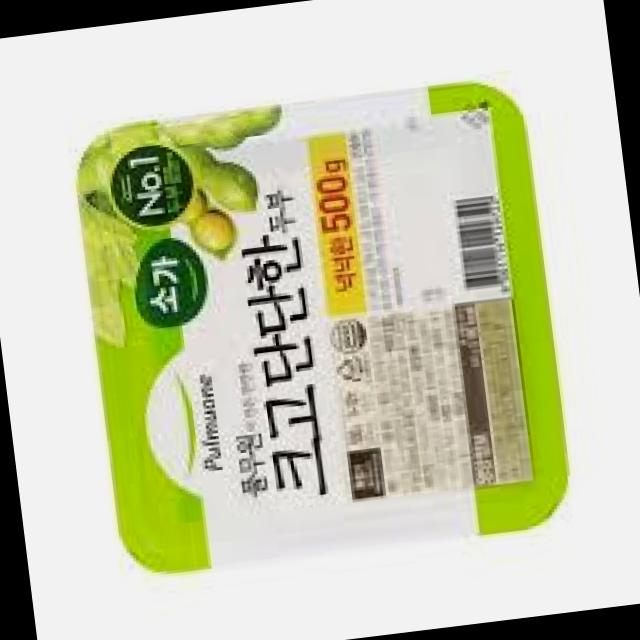tof: (48, 52, 595, 592)
